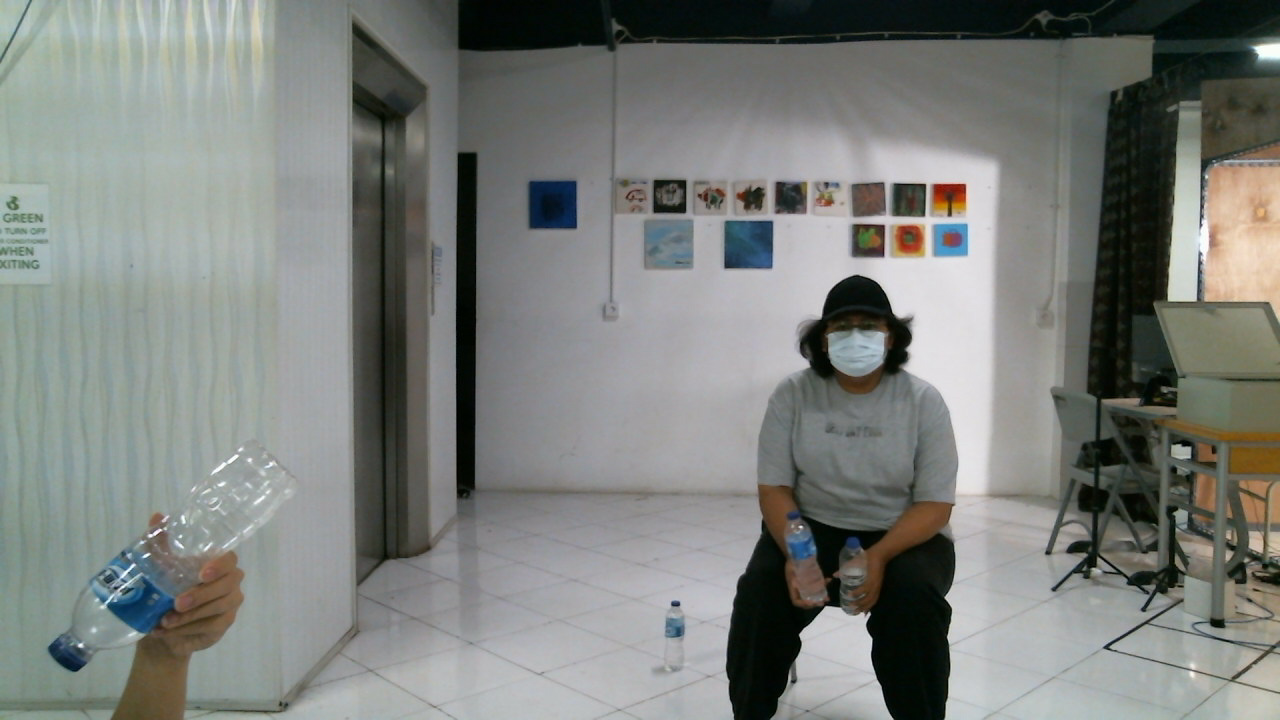Bottle: (52, 440, 295, 674), (783, 507, 825, 605)
